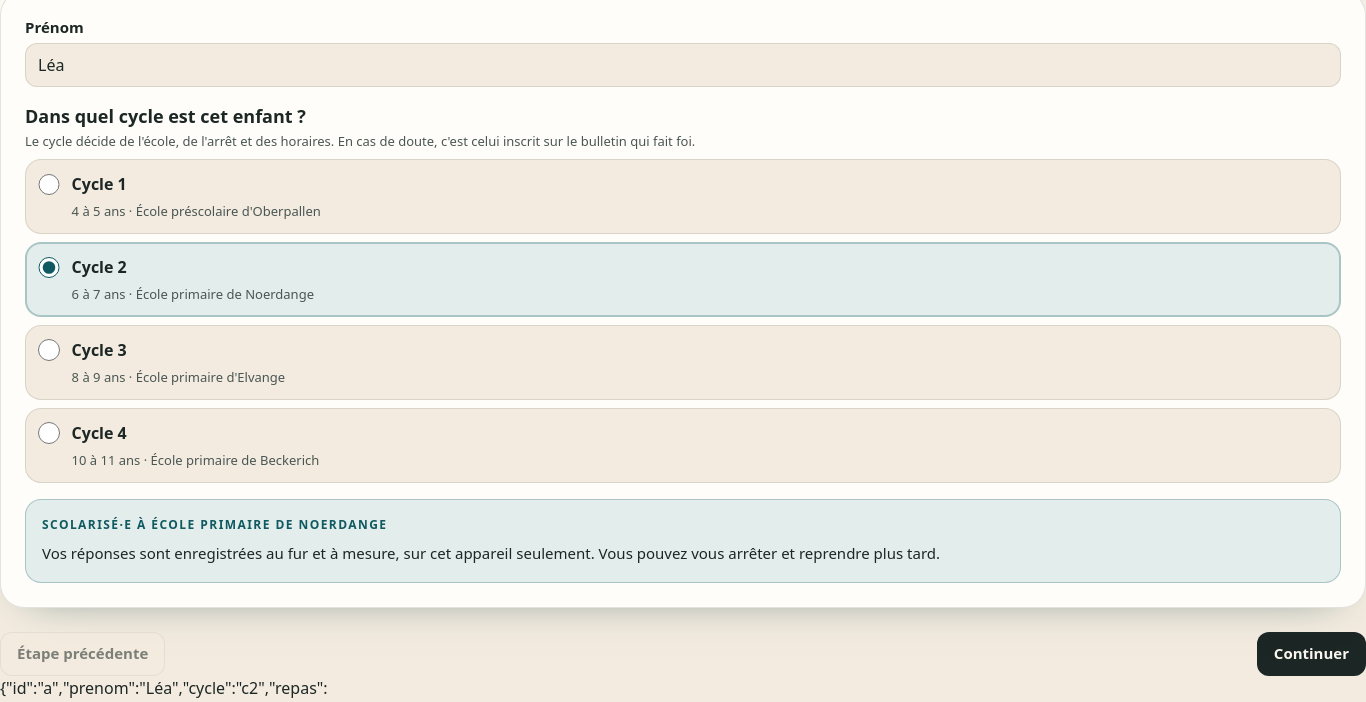
it: une question par moment de la journée › ne propose la grille des cinq jours que si on la demande
(page scrolled)
Click the button "Continuer" at (1311, 654), box [1257, 632, 1365, 676]
(page scrolled)
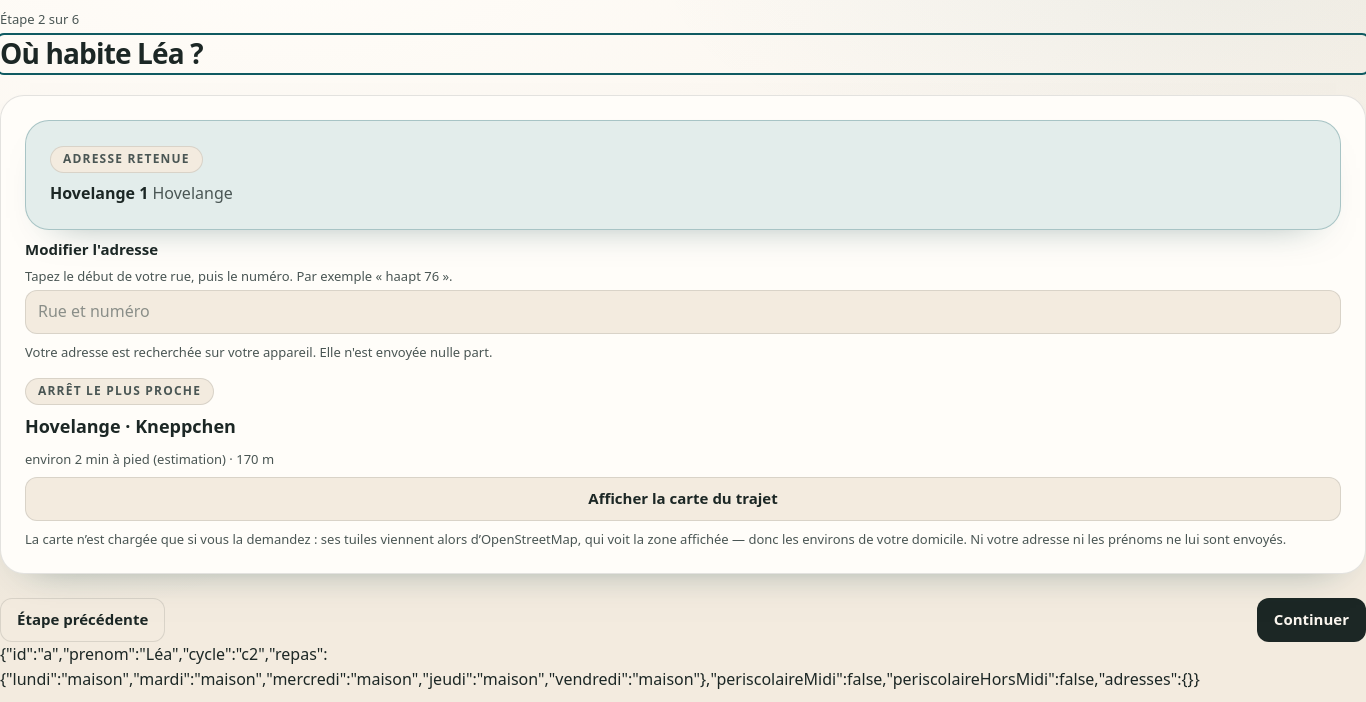
Click the button "Continuer" at (1311, 620), box [1257, 598, 1365, 642]
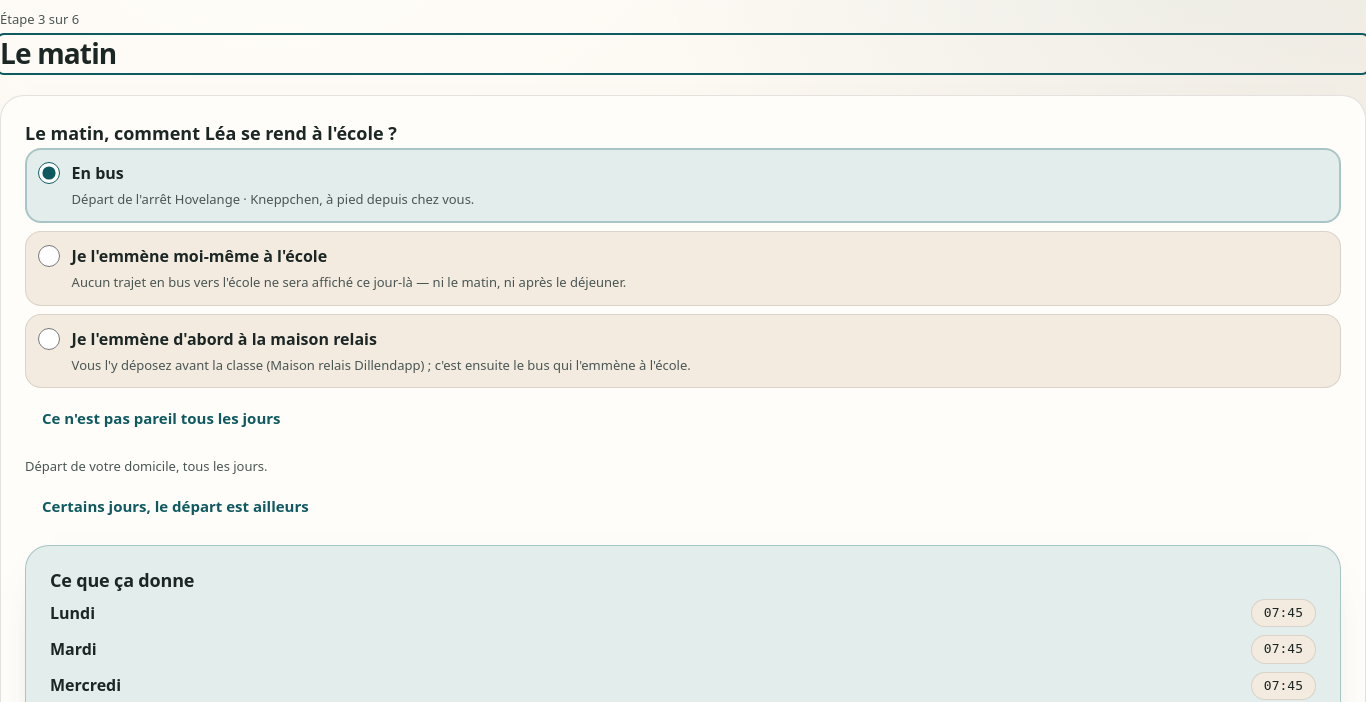
Expected: the element "Toute la semaine" is not shown
Click the button "Ce n'est pas pareil tous les jours" at (161, 418), box [25, 396, 298, 440]
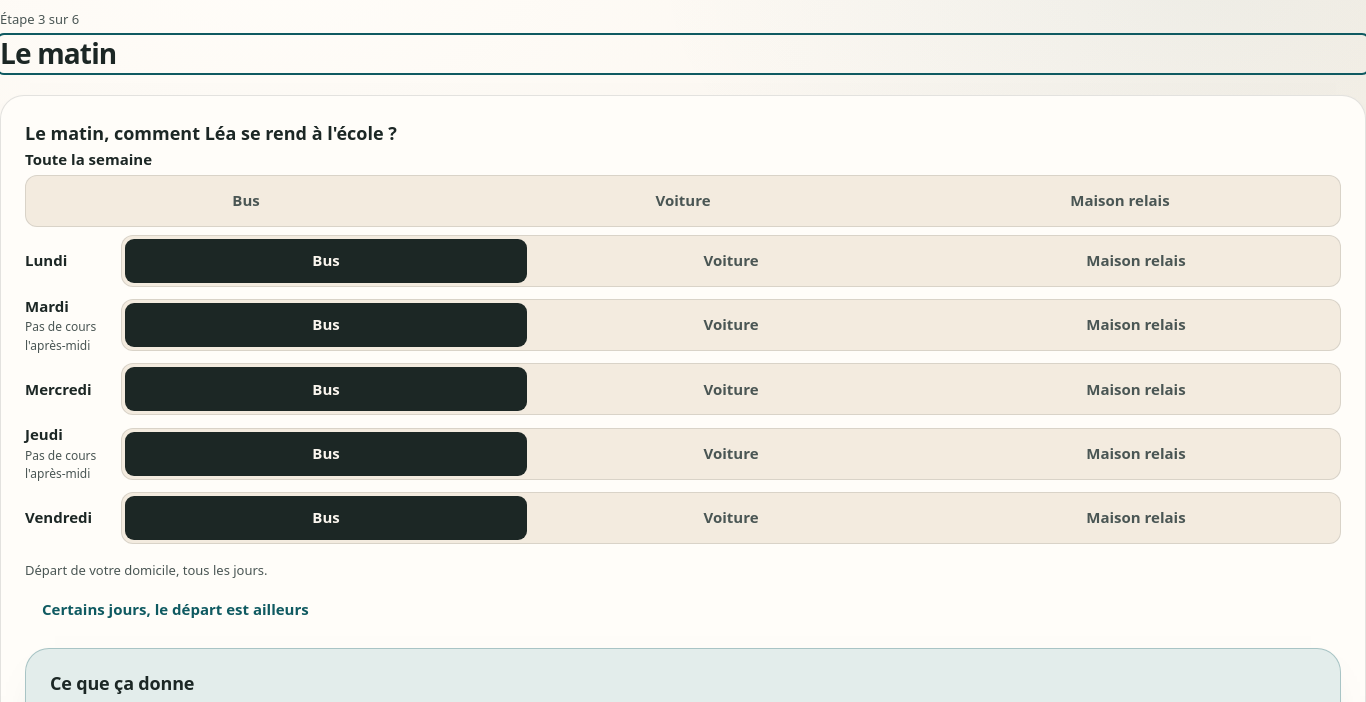
Now the element named "Toute la semaine" is shown, box [25, 175, 1341, 227]
